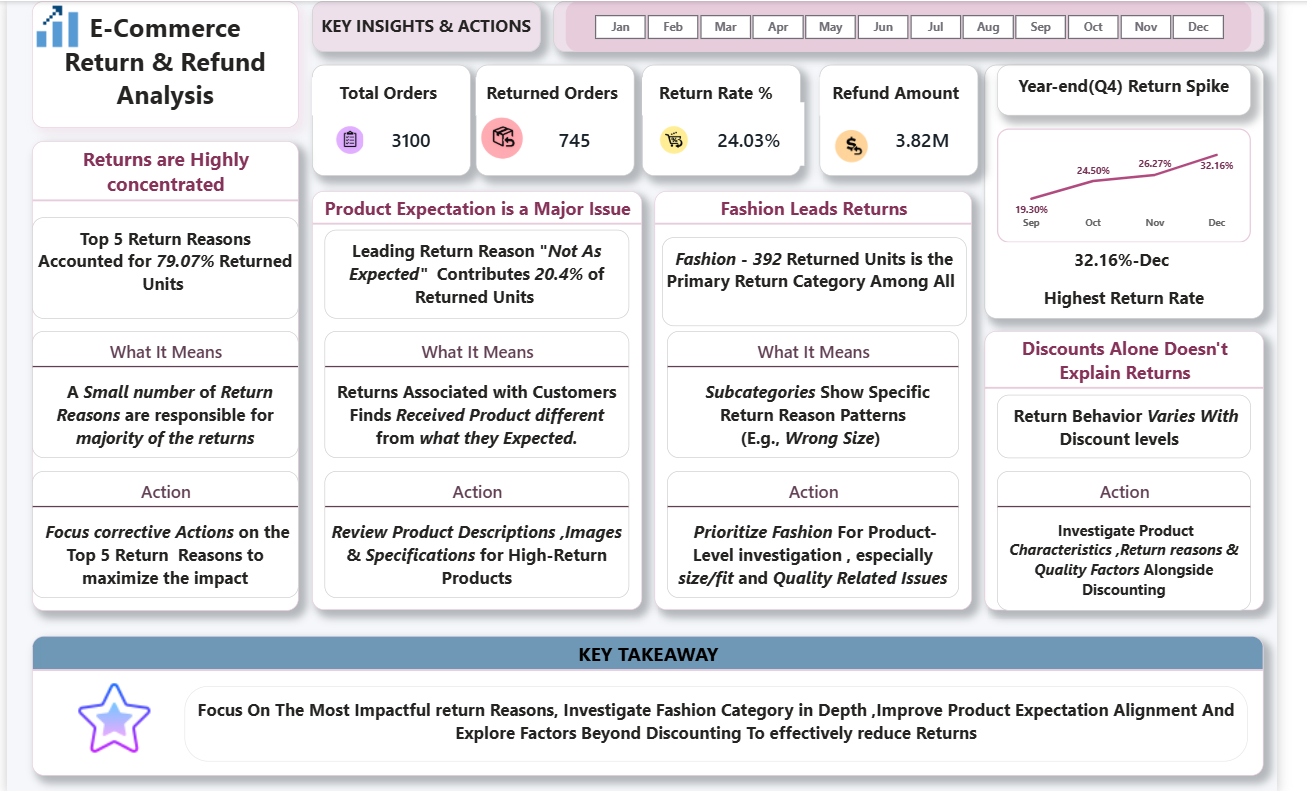

What the dashboard file says about the page in this screenshot:
{"tool":"powerbi","page":{"name":"Key Insights & Actions","canvas":[1600,1000],"ordinal":2},"visuals":[{"type":"textbox","box":[32,0,336,160],"z":0},{"type":"image","box":[32,0,64,64],"z":1000},{"type":"textbox","box":[384,80,200,140],"z":1000,"group":"g1"},{"type":"textbox","box":[384,0,288,64],"z":2000},{"type":"textbox","box":[1232,80,352,320],"z":3000},{"type":"textbox","box":[1248,80,320,64],"z":4000},{"type":"textbox","box":[688,0,896,64],"z":5000},{"type":"slicer","title":"Month","fields":{"Values":["Dim_Date.Month_Name"]},"box":[704,0,864,64],"z":6000},{"type":"group","id":"g1","title":"Group 1","box":[384,80,200,140],"z":7000},{"type":"textbox","box":[1024,80,200,140],"z":7000,"group":"g4"},{"type":"group","id":"g2","title":"Group 2","box":[544,80,256,144],"z":8000},{"type":"textbox","box":[592,80,200,140],"z":8000,"group":"g2"},{"type":"group","id":"g3","title":"Group 3","box":[784,80,220,140],"z":9000},{"type":"textbox","box":[800,80,200,140],"z":9000,"group":"g3"},{"type":"textbox","box":[384,96,192,48],"z":9000,"group":"g1"},{"type":"group","id":"g4","title":"Group 4","box":[1008,80,224,144],"z":10000},{"type":"cardVisual","title":"Total Orders","fields":{"Data":["Measures Table.Return Rate %"]},"box":[864,128,140,80],"z":10000,"group":"g3"},{"type":"cardVisual","fields":{"Data":["Measures Table.Refund Amount"]},"box":[1088,128,130,80],"z":10000,"group":"g4"},{"type":"image","box":[384,144,96,64],"z":11000,"group":"g1"},{"type":"lineChart","fields":{"Category":["Dim_Date.Month_Name"],"Y":["Measures Table.Return Rate %"]},"box":[1248,160,320,144],"z":11000},{"type":"cardVisual","title":"Total Orders","fields":{"Data":["Measures Table.Total Orders"]},"box":[448,128,120,80],"z":12000,"group":"g1"},{"type":"textbox","box":[1248,304,320,48],"z":12000},{"type":"textbox","box":[1248,352,320,48],"z":13000},{"type":"textbox","box":[592,96,192,48],"z":14000,"group":"g2"},{"type":"textbox","title":"Returns are Highly concentrated","box":[32,176,336,592],"z":14000},{"type":"image","box":[544,128,160,96],"z":15000,"group":"g2"},{"type":"textbox","title":"Product Expectation is a Major Issue","box":[384,240,416,528],"z":15000},{"type":"cardVisual","title":"Total Orders","fields":{"Data":["Measures Table.Returned Orders"]},"box":[656,128,120,80],"z":16000,"group":"g2"},{"type":"textbox","title":"Discounts Alone  Doesn''t Explain Returns","box":[1232,416,352,352],"z":16000},{"type":"textbox","title":"Fashion Leads Returns","box":[816,240,400,528],"z":17000},{"type":"textbox","box":[800,96,192,48],"z":18000,"group":"g3"},{"type":"textbox","box":[832,320,336,48],"z":18000},{"type":"image","box":[784,144,112,64],"z":19000,"group":"g3"},{"type":"textbox","box":[32,272,336,128],"z":19000},{"type":"textbox","box":[400,288,384,112],"z":20000},{"type":"textbox","box":[1024,96,192,48],"z":21000,"group":"g4"},{"type":"textbox","title":"What It Means  ","box":[32,416,336,160],"z":21000},{"type":"image","box":[1008,144,112,80],"z":22000,"group":"g4"},{"type":"textbox","title":"Action ","box":[32,592,336,160],"z":22000},{"type":"textbox","title":"What It Means","box":[400,416,384,160],"z":23000},{"type":"textbox","title":"Action  ","box":[400,592,384,160],"z":24000},{"type":"textbox","box":[1248,496,320,80],"z":25000},{"type":"textbox","title":"What It Means","box":[832,416,368,160],"z":26000},{"type":"textbox","title":"Action  ","box":[832,592,368,160],"z":27000},{"type":"textbox","box":[826,298,384,112],"z":28000},{"type":"textbox","title":"Action","box":[1248,592,320,176],"z":29000},{"type":"textbox","title":"KEY TAKEAWAY","box":[32,800,1552,176],"z":30000},{"type":"image","box":[48,848,176,112],"z":31000},{"type":"textbox","box":[224,864,1340,95],"z":32000}]}

Visuals, with their boxes on the page's 1600x1000 design canvas (x1, y1, x2, y2). These are canvas units, not pixel positions in the 1307x791 screenshot, which may show the page scaled, cropped or inside an application window:
textbox: [x1=32, y1=0, x2=368, y2=160]
image: [x1=32, y1=0, x2=96, y2=64]
textbox: [x1=384, y1=80, x2=584, y2=220]
textbox: [x1=384, y1=0, x2=672, y2=64]
textbox: [x1=1232, y1=80, x2=1584, y2=400]
textbox: [x1=1248, y1=80, x2=1568, y2=144]
textbox: [x1=688, y1=0, x2=1584, y2=64]
"Month" slicer: [x1=704, y1=0, x2=1568, y2=64]
"Group 1" group: [x1=384, y1=80, x2=584, y2=220]
textbox: [x1=1024, y1=80, x2=1224, y2=220]
"Group 2" group: [x1=544, y1=80, x2=800, y2=224]
textbox: [x1=592, y1=80, x2=792, y2=220]
"Group 3" group: [x1=784, y1=80, x2=1004, y2=220]
textbox: [x1=800, y1=80, x2=1000, y2=220]
textbox: [x1=384, y1=96, x2=576, y2=144]
"Group 4" group: [x1=1008, y1=80, x2=1232, y2=224]
"Total Orders" cardVisual: [x1=864, y1=128, x2=1004, y2=208]
cardVisual - Measures Table.Refund Amount: [x1=1088, y1=128, x2=1218, y2=208]
image: [x1=384, y1=144, x2=480, y2=208]
lineChart - Dim_Date.Month_Name x Measures Table.Return Rate %: [x1=1248, y1=160, x2=1568, y2=304]
"Total Orders" cardVisual: [x1=448, y1=128, x2=568, y2=208]
textbox: [x1=1248, y1=304, x2=1568, y2=352]
textbox: [x1=1248, y1=352, x2=1568, y2=400]
textbox: [x1=592, y1=96, x2=784, y2=144]
"Returns are Highly concentrated" textbox: [x1=32, y1=176, x2=368, y2=768]
image: [x1=544, y1=128, x2=704, y2=224]
"Product Expectation is a Major Issue" textbox: [x1=384, y1=240, x2=800, y2=768]
"Total Orders" cardVisual: [x1=656, y1=128, x2=776, y2=208]
"Discounts Alone  Doesn''t Explain Returns" textbox: [x1=1232, y1=416, x2=1584, y2=768]
"Fashion Leads Returns" textbox: [x1=816, y1=240, x2=1216, y2=768]
textbox: [x1=800, y1=96, x2=992, y2=144]
textbox: [x1=832, y1=320, x2=1168, y2=368]
image: [x1=784, y1=144, x2=896, y2=208]
textbox: [x1=32, y1=272, x2=368, y2=400]
textbox: [x1=400, y1=288, x2=784, y2=400]
textbox: [x1=1024, y1=96, x2=1216, y2=144]
"What It Means  " textbox: [x1=32, y1=416, x2=368, y2=576]
image: [x1=1008, y1=144, x2=1120, y2=224]
"Action " textbox: [x1=32, y1=592, x2=368, y2=752]
"What It Means" textbox: [x1=400, y1=416, x2=784, y2=576]
"Action  " textbox: [x1=400, y1=592, x2=784, y2=752]
textbox: [x1=1248, y1=496, x2=1568, y2=576]
"What It Means" textbox: [x1=832, y1=416, x2=1200, y2=576]
"Action  " textbox: [x1=832, y1=592, x2=1200, y2=752]
textbox: [x1=826, y1=298, x2=1210, y2=410]
"Action" textbox: [x1=1248, y1=592, x2=1568, y2=768]
"KEY TAKEAWAY" textbox: [x1=32, y1=800, x2=1584, y2=976]
image: [x1=48, y1=848, x2=224, y2=960]
textbox: [x1=224, y1=864, x2=1564, y2=959]
